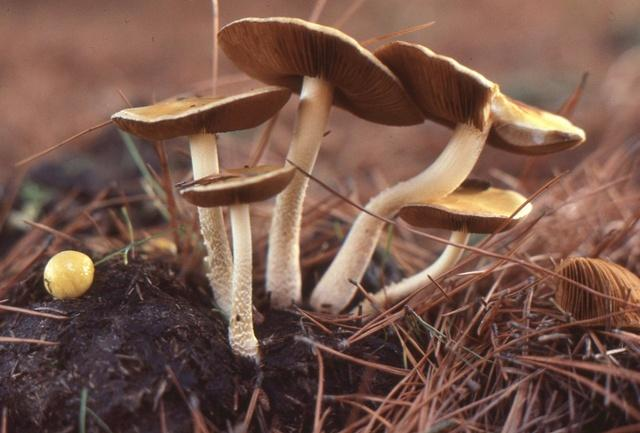edible_mushroom: (309, 38, 586, 320), (215, 15, 424, 312), (109, 83, 292, 323), (175, 162, 297, 363)
